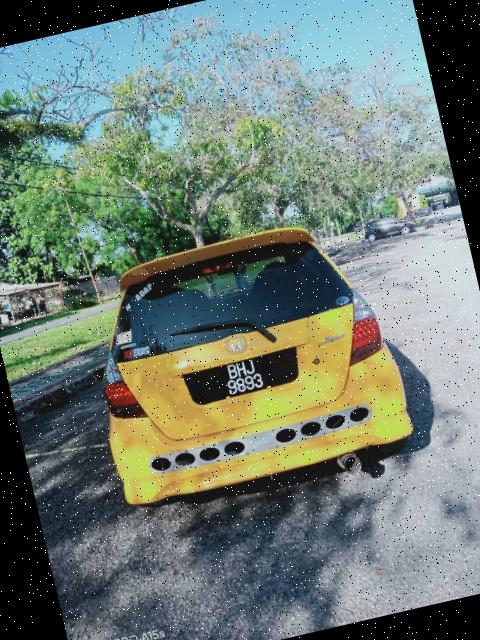License_Plate: (198, 348, 283, 406)
car: (47, 202, 428, 521)
